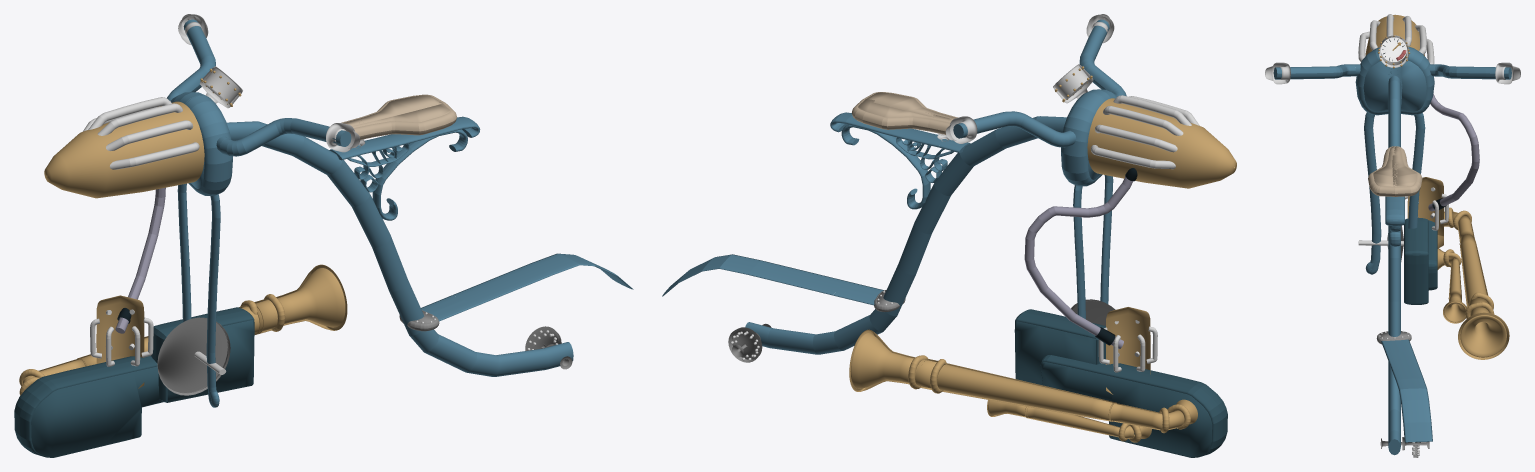
The model's file is telaio.gltf.
The picture shows the model from 3 angles, left to right: view 1: azimuth 30°, elevation 25°; view 2: azimuth 150°, elevation 25°; view 3: azimuth 270°, elevation 25°; orthographic projection. The views are drawn at different scales.
Visible parts, largest first — view 1: s0028.0444, s0008.2864, s0054.5764, s0004.6676, s0027.8192, s0058.6983, s0014.2501, s0056.0164, s0006.2056, s0051.9508, s0035.0706, s0055.1727 (+6 smaller); view 2: s0028.0444, s0008.2864, s0054.5764, s0033.5879, s0027.8192, s0014.2501, s0056.0164, s0058.6983, s0051.9508, s0035.0706, s0057.4386, s0055.1727 (+10 smaller); view 3: s0055.1727, s0008.2864, s0014.2501, s0006.2056, s0027.8192, s0035.0706, s0058.6983, s0051.9508, s0057.4386, s0033.5879, s0056.0164, s0029.7845 (+11 smaller).
Boxes of the visible parts, bbox=[...] form: s0028.0444: bbox=[14, 356, 163, 457]; s0008.2864: bbox=[227, 121, 573, 376]; s0054.5764: bbox=[44, 101, 204, 198]; s0004.6676: bbox=[157, 317, 228, 393]; s0027.8192: bbox=[151, 307, 254, 402]; s0058.6983: bbox=[167, 19, 351, 156]; s0014.2501: bbox=[421, 253, 633, 321]; s0056.0164: bbox=[83, 97, 199, 169]; s0006.2056: bbox=[177, 183, 220, 407]; s0051.9508: bbox=[341, 94, 456, 139]; s0035.0706: bbox=[276, 264, 347, 330]; s0055.1727: bbox=[170, 92, 232, 195]; s0028.0444: bbox=[1040, 355, 1227, 457]; s0008.2864: bbox=[745, 116, 1066, 354]; s0054.5764: bbox=[1087, 98, 1236, 188]; s0033.5879: bbox=[937, 363, 1117, 421]; s0027.8192: bbox=[1014, 309, 1105, 385]; s0014.2501: bbox=[662, 254, 883, 305]; s0056.0164: bbox=[1090, 95, 1199, 169]; s0058.6983: bbox=[953, 19, 1126, 147]; s0051.9508: bbox=[852, 92, 957, 134]; s0035.0706: bbox=[849, 329, 927, 391]; s0057.4386: bbox=[1024, 176, 1133, 349]; s0055.1727: bbox=[1061, 89, 1117, 186]; s0055.1727: bbox=[1355, 46, 1434, 115]; s0008.2864: bbox=[1388, 75, 1400, 455]; s0014.2501: bbox=[1381, 339, 1432, 442]; s0006.2056: bbox=[1364, 112, 1425, 274]; s0027.8192: bbox=[1404, 217, 1428, 304]; s0035.0706: bbox=[1458, 307, 1509, 359]; s0058.6983: bbox=[1273, 64, 1511, 79]; s0051.9508: bbox=[1368, 146, 1422, 196]; s0057.4386: bbox=[1428, 93, 1479, 211]; s0033.5879: bbox=[1459, 234, 1488, 307]; s0056.0164: bbox=[1358, 14, 1434, 64]; s0029.7845: bbox=[1407, 177, 1444, 248].
Size of the model in its own units: 5.85 by 3.62 by 2.84.
